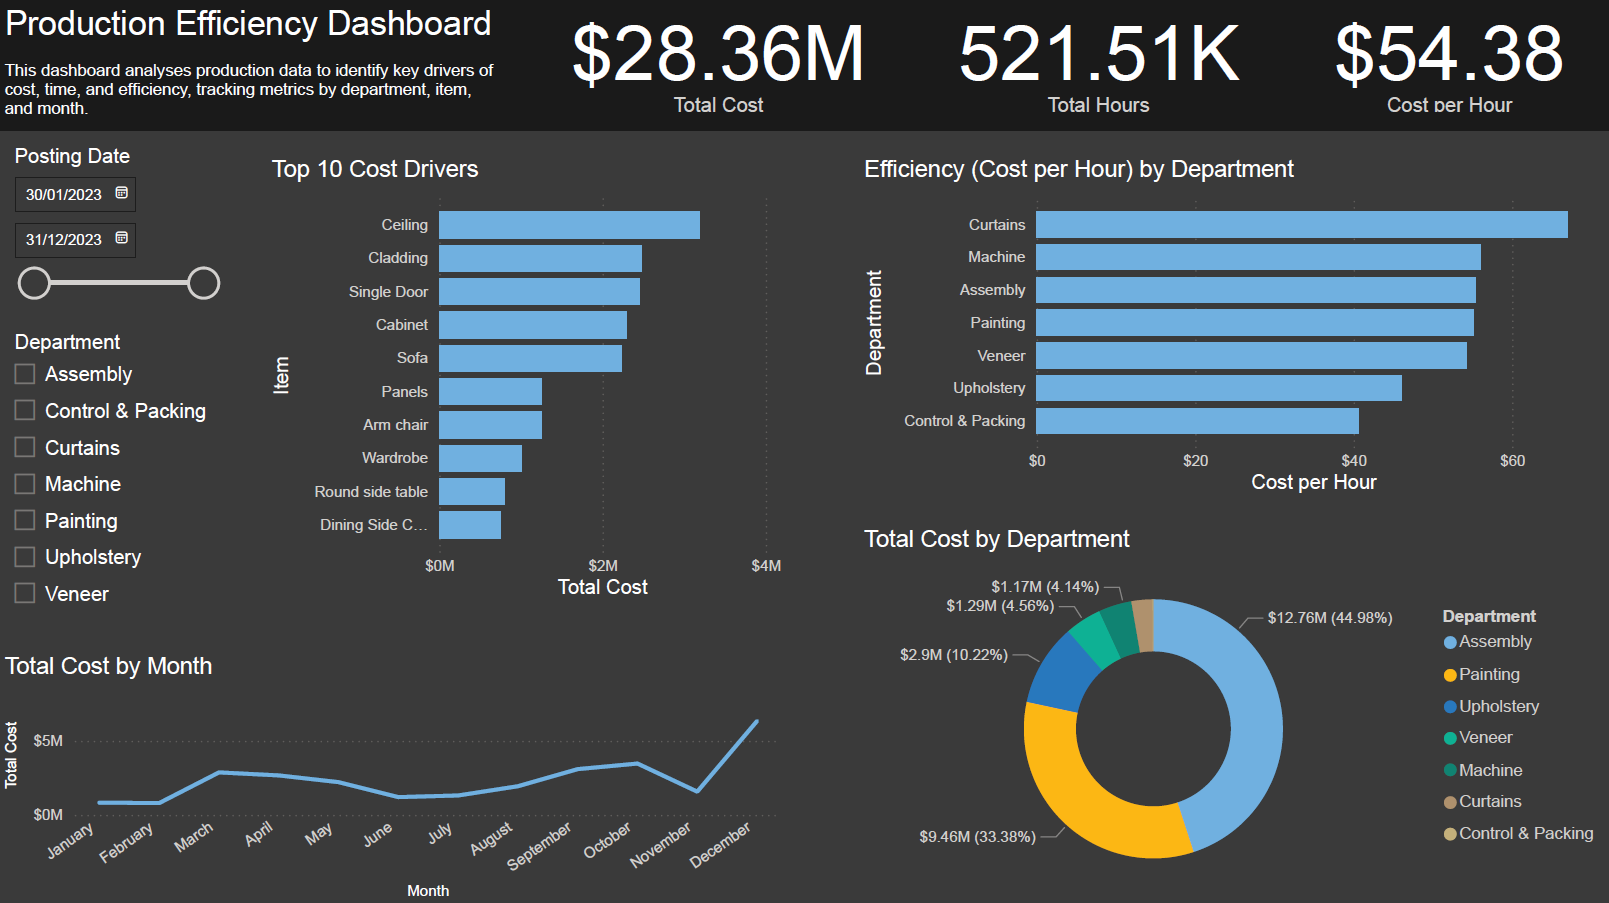

The page's visual inventory and layout, read from the dashboard file:
{"tool":"powerbi","page":{"name":"Executive Dashboard","canvas":[1280,720],"ordinal":0},"visuals":[{"type":"card","fields":{"Values":["production_data_master_clean.Total Cost"]},"box":[419.8,0,303,105.2],"z":0},{"type":"card","fields":{"Values":["production_data_master_clean.Total Time"]},"box":[722.8,0,300,105.2],"z":1000},{"type":"card","fields":{"Values":["production_data_master_clean.Cost per Hour"]},"box":[1022.8,0,257.2,105.2],"z":2000},{"type":"textbox","box":[0,0,419.8,44.8],"z":3000},{"type":"textbox","box":[0,44.8,419.8,60.4],"z":4000},{"type":"slicer","fields":{"Values":["production_data_master_clean.Posting Date"]},"box":[0,112,184.1,164.6],"z":5000},{"type":"slicer","fields":{"Values":["production_data_master_clean.Department"]},"box":[0,259.1,184.1,235.7],"z":6000},{"type":"lineChart","fields":{"Category":["production_data_master_clean.Posting Date.Variation.Date Hierarchy.Month"],"Y":["production_data_master_clean.Total Cost"]},"box":[0,519.2,626.4,200.7],"z":7000},{"type":"donutChart","fields":{"Category":["production_data_master_clean.Department"],"Y":["production_data_master_clean.Total Cost"]},"box":[681.9,417.9,598.1,302],"z":8000},{"type":"barChart","title":"Efficiency (Cost per Hour) by Department","fields":{"Category":["production_data_master_clean.Department"],"Y":["production_data_master_clean.Cost per Hour"]},"box":[681.9,124.7,598.1,272.8],"z":9000},{"type":"barChart","title":"Top 10 Cost Drivers","fields":{"Category":["production_data_master_clean.Item"],"Y":["production_data_master_clean.Total Cost"]},"box":[212.4,124.7,414,355.6],"z":10000}]}

Visuals, with their boxes in screenshot pixels (x1, y1, x2, y2), scaled from the page's 1280x720 canvas onto the 1609x903 screenshot:
card - production_data_master_clean.Total Cost: [left=528, top=0, right=909, bottom=132]
card - production_data_master_clean.Total Time: [left=909, top=0, right=1286, bottom=132]
card - production_data_master_clean.Cost per Hour: [left=1286, top=0, right=1608, bottom=132]
textbox: [left=0, top=0, right=528, bottom=56]
textbox: [left=0, top=56, right=528, bottom=132]
slicer - production_data_master_clean.Posting Date: [left=0, top=140, right=231, bottom=347]
slicer - production_data_master_clean.Department: [left=0, top=325, right=231, bottom=621]
lineChart - production_data_master_clean.Posting Date.Variation.Date Hierarchy.Month x production_data_master_clean.Total Cost: [left=0, top=651, right=787, bottom=902]
donutChart - production_data_master_clean.Department x production_data_master_clean.Total Cost: [left=857, top=524, right=1608, bottom=902]
"Efficiency (Cost per Hour) by Department" barChart: [left=857, top=156, right=1608, bottom=499]
"Top 10 Cost Drivers" barChart: [left=267, top=156, right=787, bottom=602]
